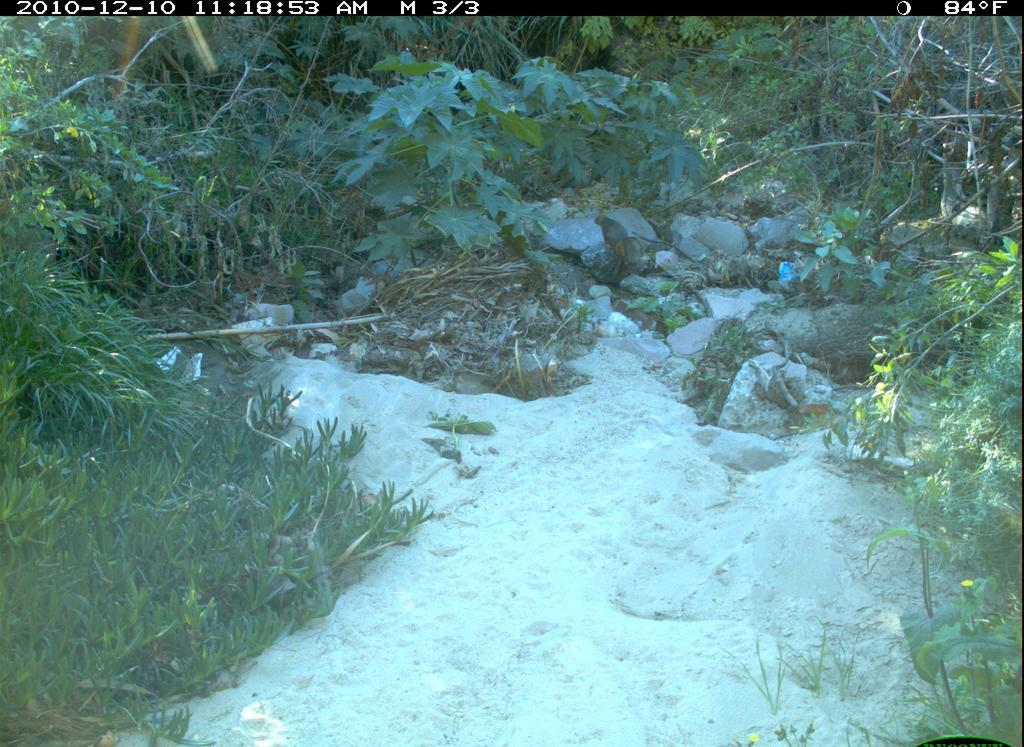squirrel: (594, 207, 655, 272)
